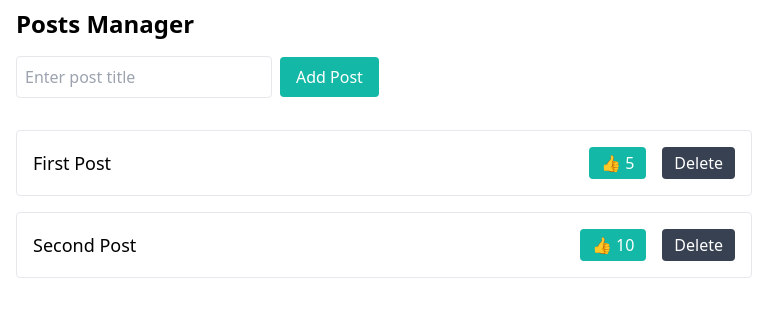
Test: App Component › displays error message when deleting post fails
Click the button "Delete" in the row of "First Post".
click(699, 163)  # box left=662, top=147, right=735, bottom=179
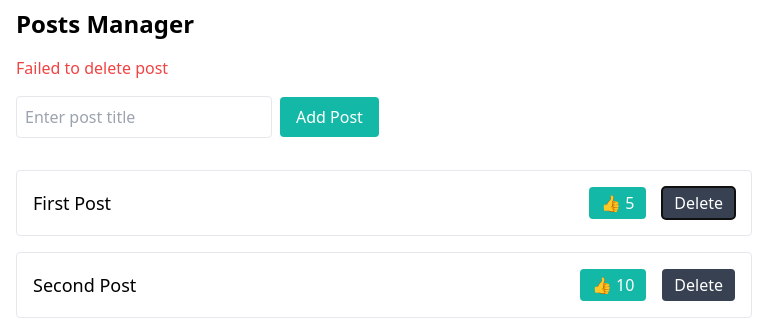
Expected: the text "Failed to delete post" is shown, left=16, top=57, right=168, bottom=79
